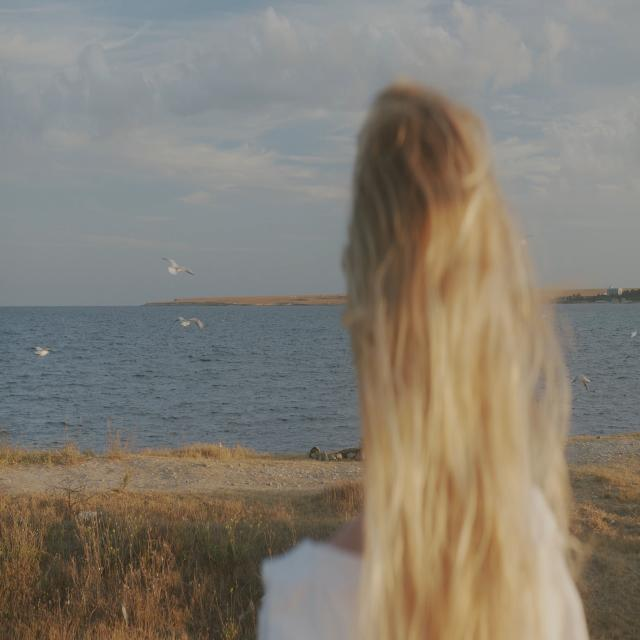bird: (154, 243, 196, 281), (167, 310, 208, 338), (26, 338, 59, 358), (568, 366, 592, 393)
